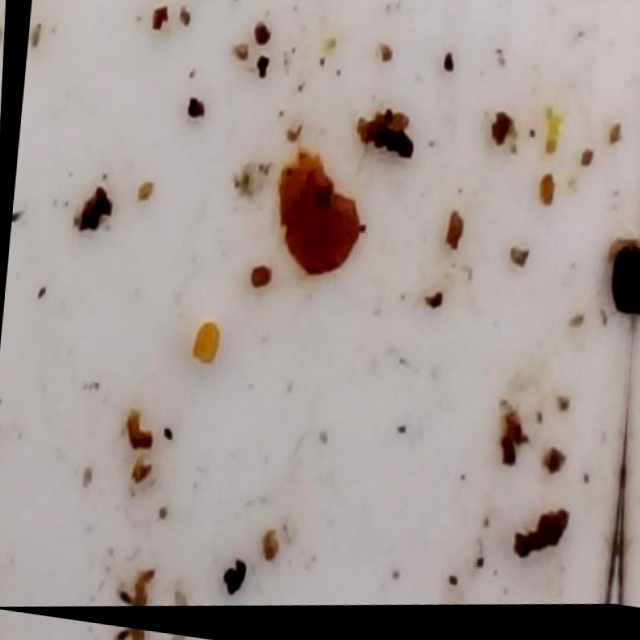varroa: (605, 254, 637, 331)
